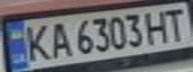0: (106, 12, 130, 51)
3: (124, 11, 148, 47), (90, 15, 112, 53)
6: (72, 16, 93, 56)
A: (45, 19, 72, 60)
H: (142, 8, 172, 45)
K: (18, 20, 54, 63)
T: (160, 6, 190, 43)
